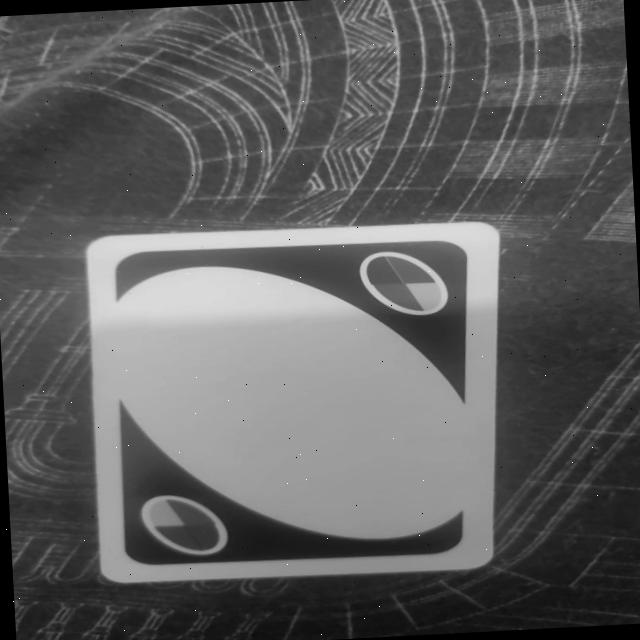wild_card: (81, 214, 518, 589)
